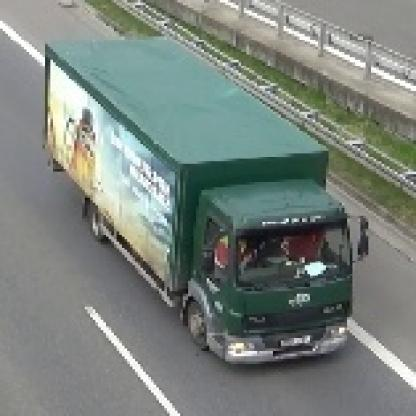truck: (43, 38, 367, 363)
